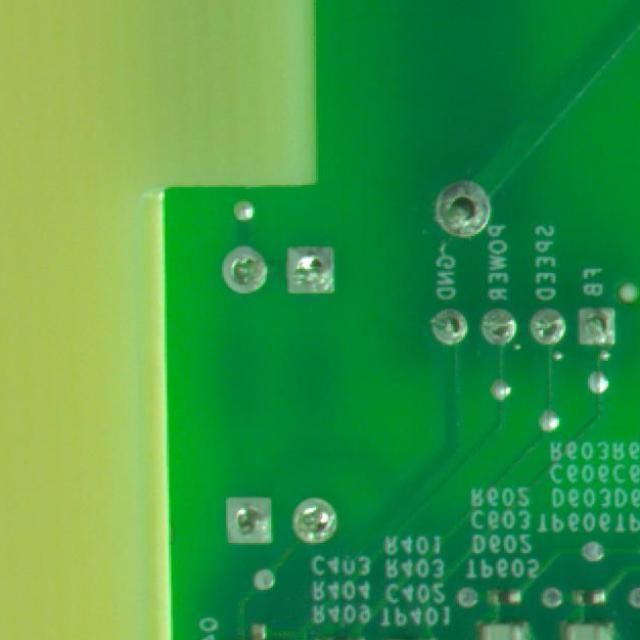Insufficient solder: (423, 172, 501, 260), (277, 215, 348, 308), (204, 228, 284, 306), (218, 476, 288, 554), (283, 480, 347, 554), (576, 292, 628, 357), (478, 290, 524, 355), (420, 298, 467, 357), (534, 295, 570, 354)
